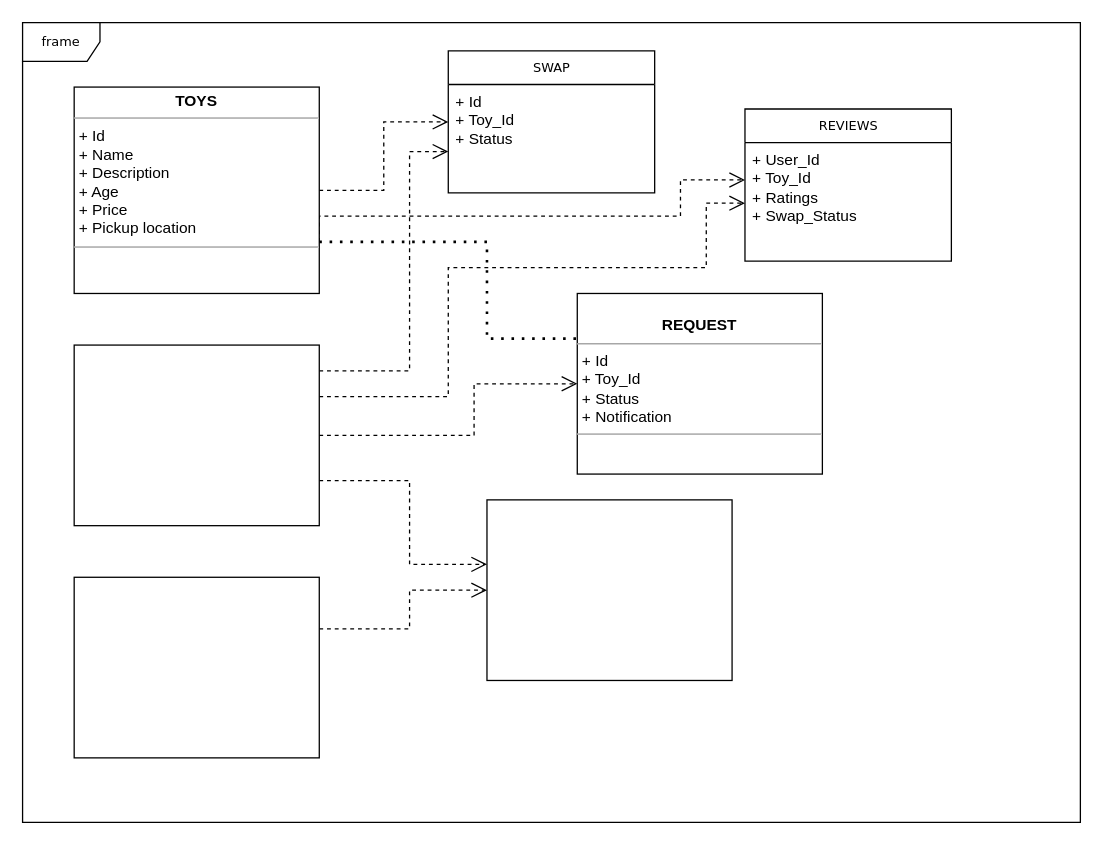
The diagram is 1103 pixels wide and 845 high, and some of its shapes have lost their labels. Each missing label, with the centre of its shape:
"Map - Id - Location" belongs at (x=196, y=667).
"SEARCH_RANGE + Id + Map_Id + User_Id" belongs at (x=609, y=589).
"USERS + Id + Name + Email + PhoneNumber + City" belongs at (x=196, y=435).
